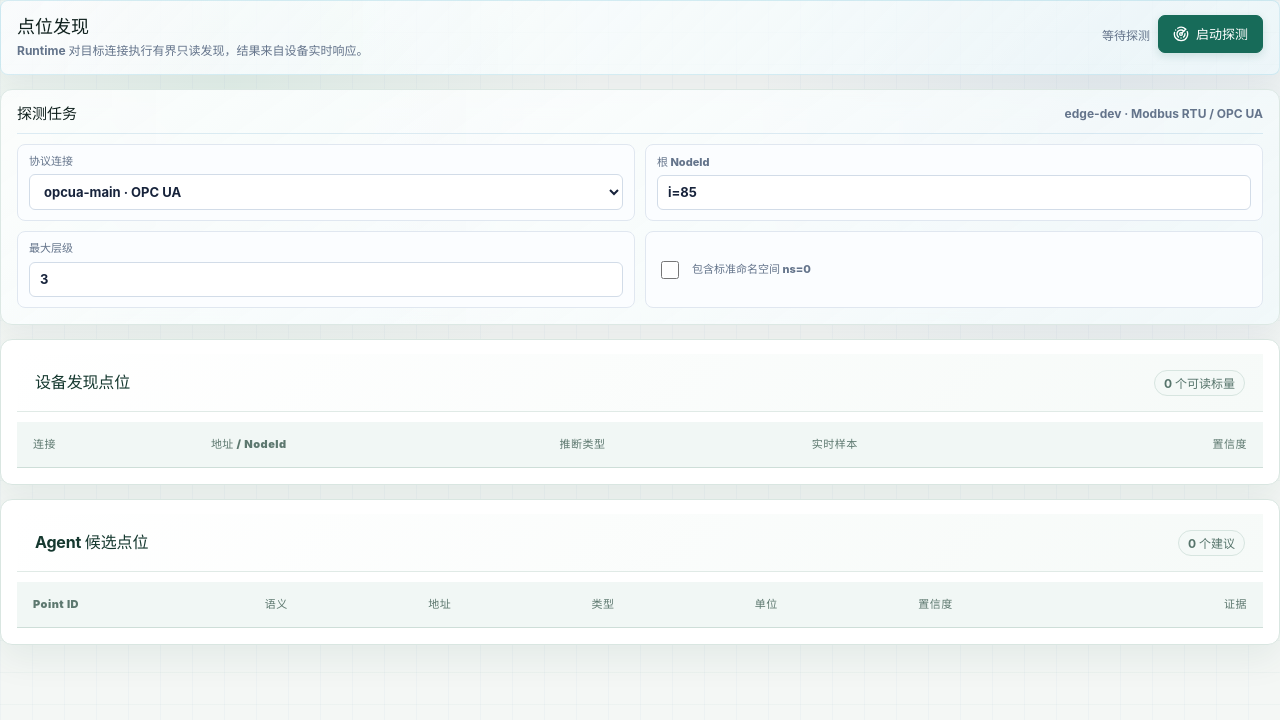
DiscoveryPage › submits OPC UA Browse parameters and renders real discovered nodes
Replace the text in the field labelled "根 NodeId" with "ns=2;s=Factory" at (954, 192), box 657,175 -> 1251,210
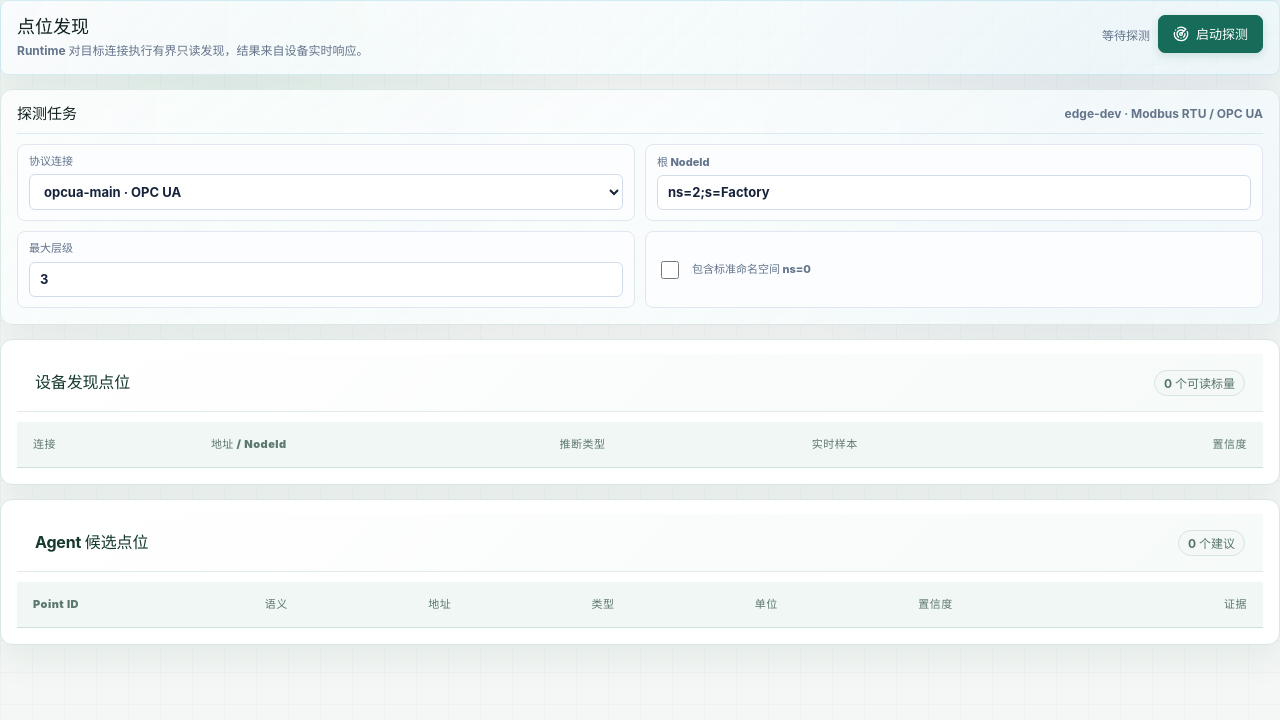
Replace the text in the number field labelled "最大层级" with "4" at (326, 279), box 29,262 -> 623,297
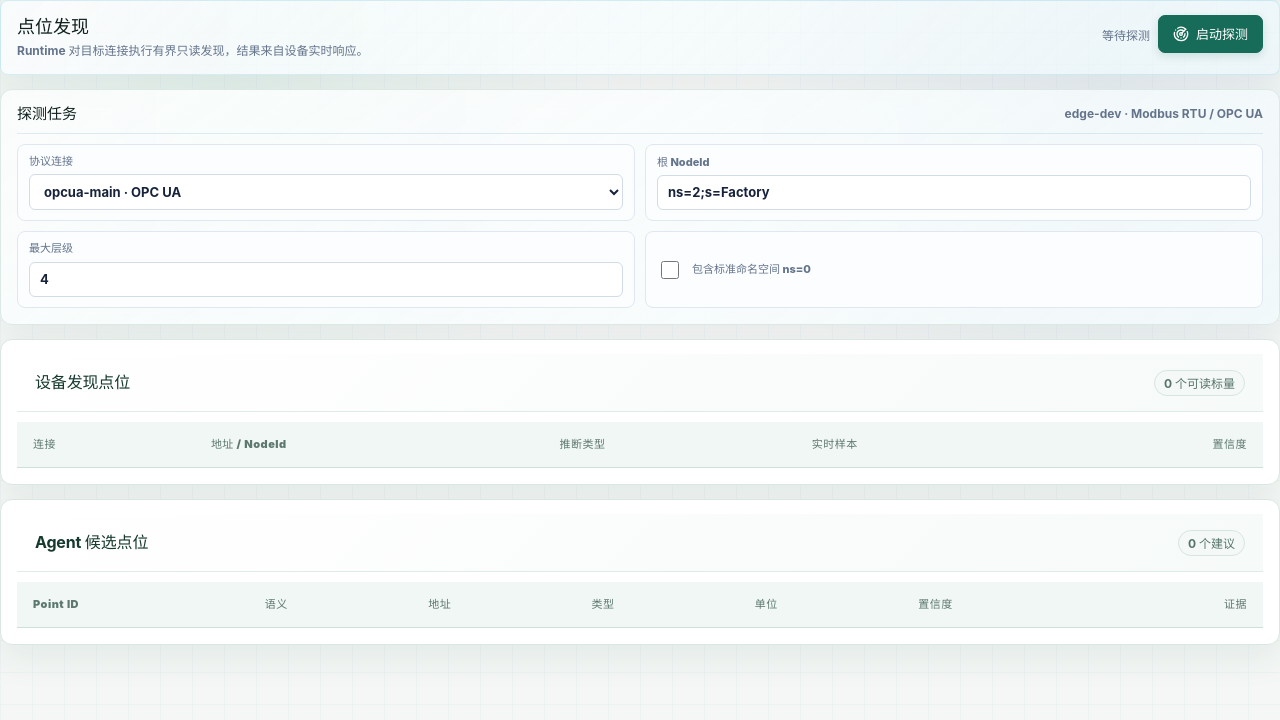
Click the checkbox named "包含 OPC UA 标准命名空间" at (670, 270), box 661,261 -> 679,279
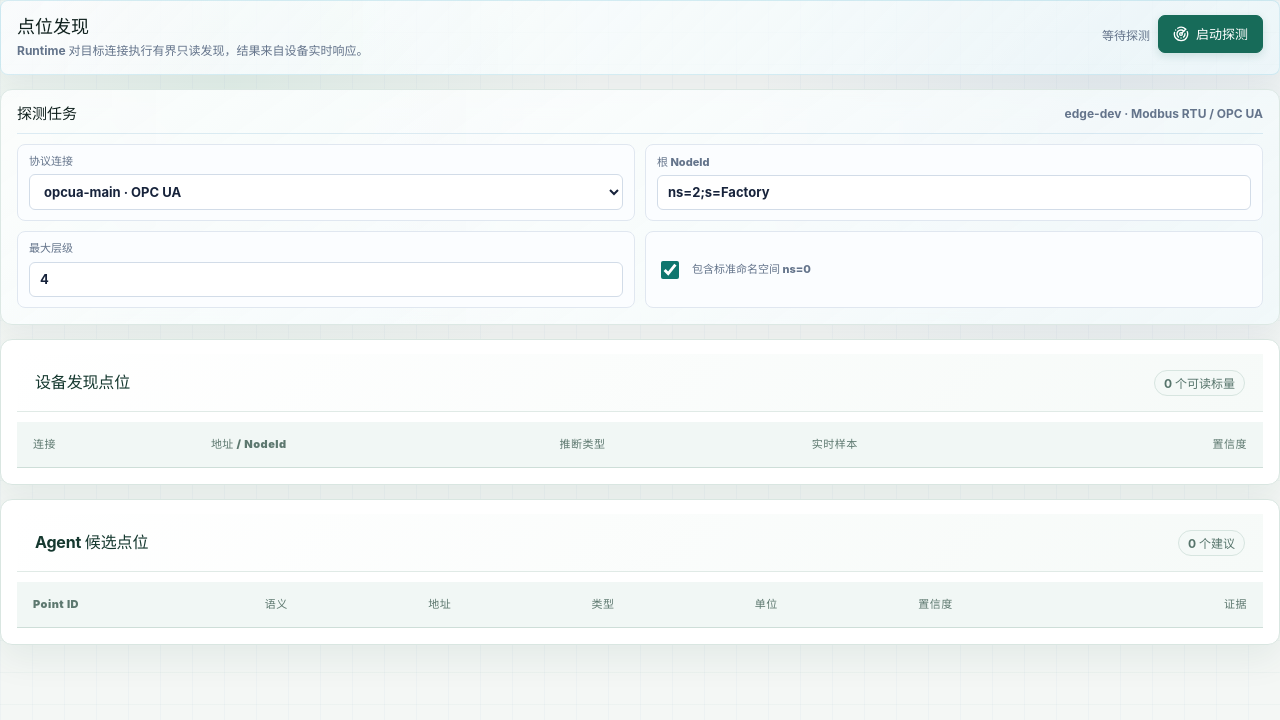
Click the button "启动探测" at (1210, 34), box 1158,15 -> 1263,53
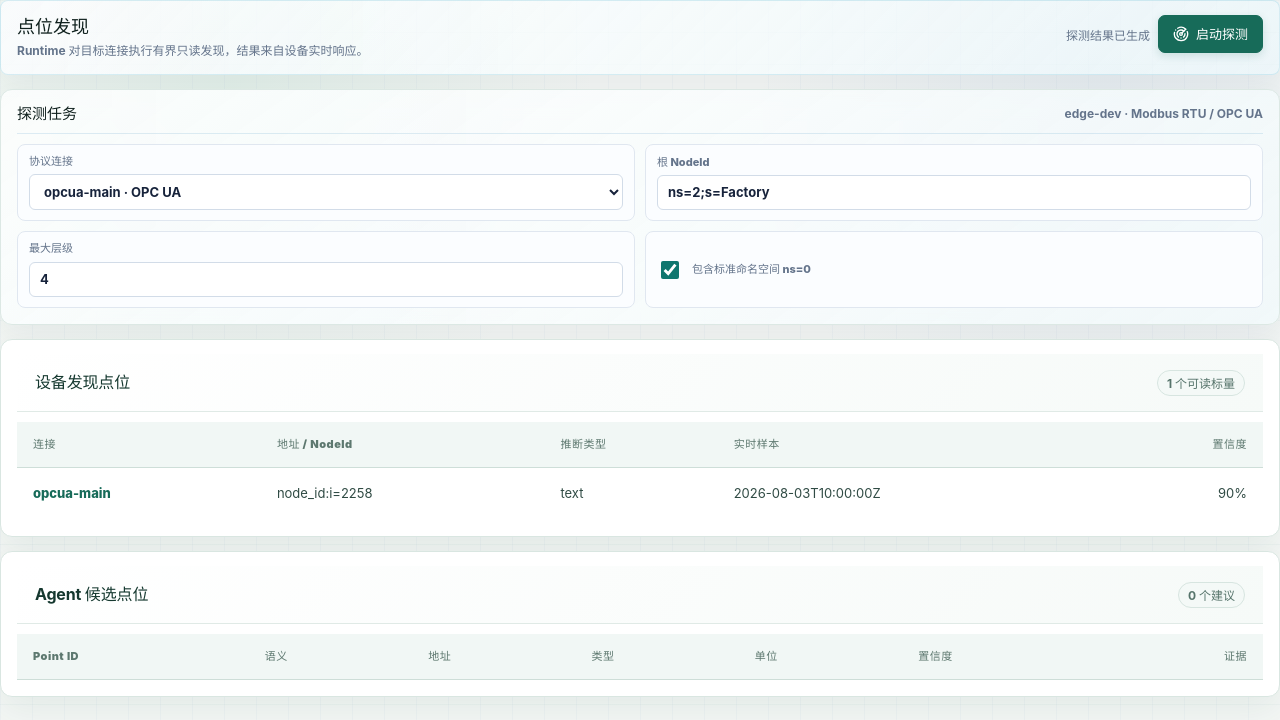
Expected: the text "node_id:i=2258" is shown, 261,468 -> 544,520
Expected: the text "2026-08-03T10:00:00Z" is shown, 718,468 -> 1115,520
